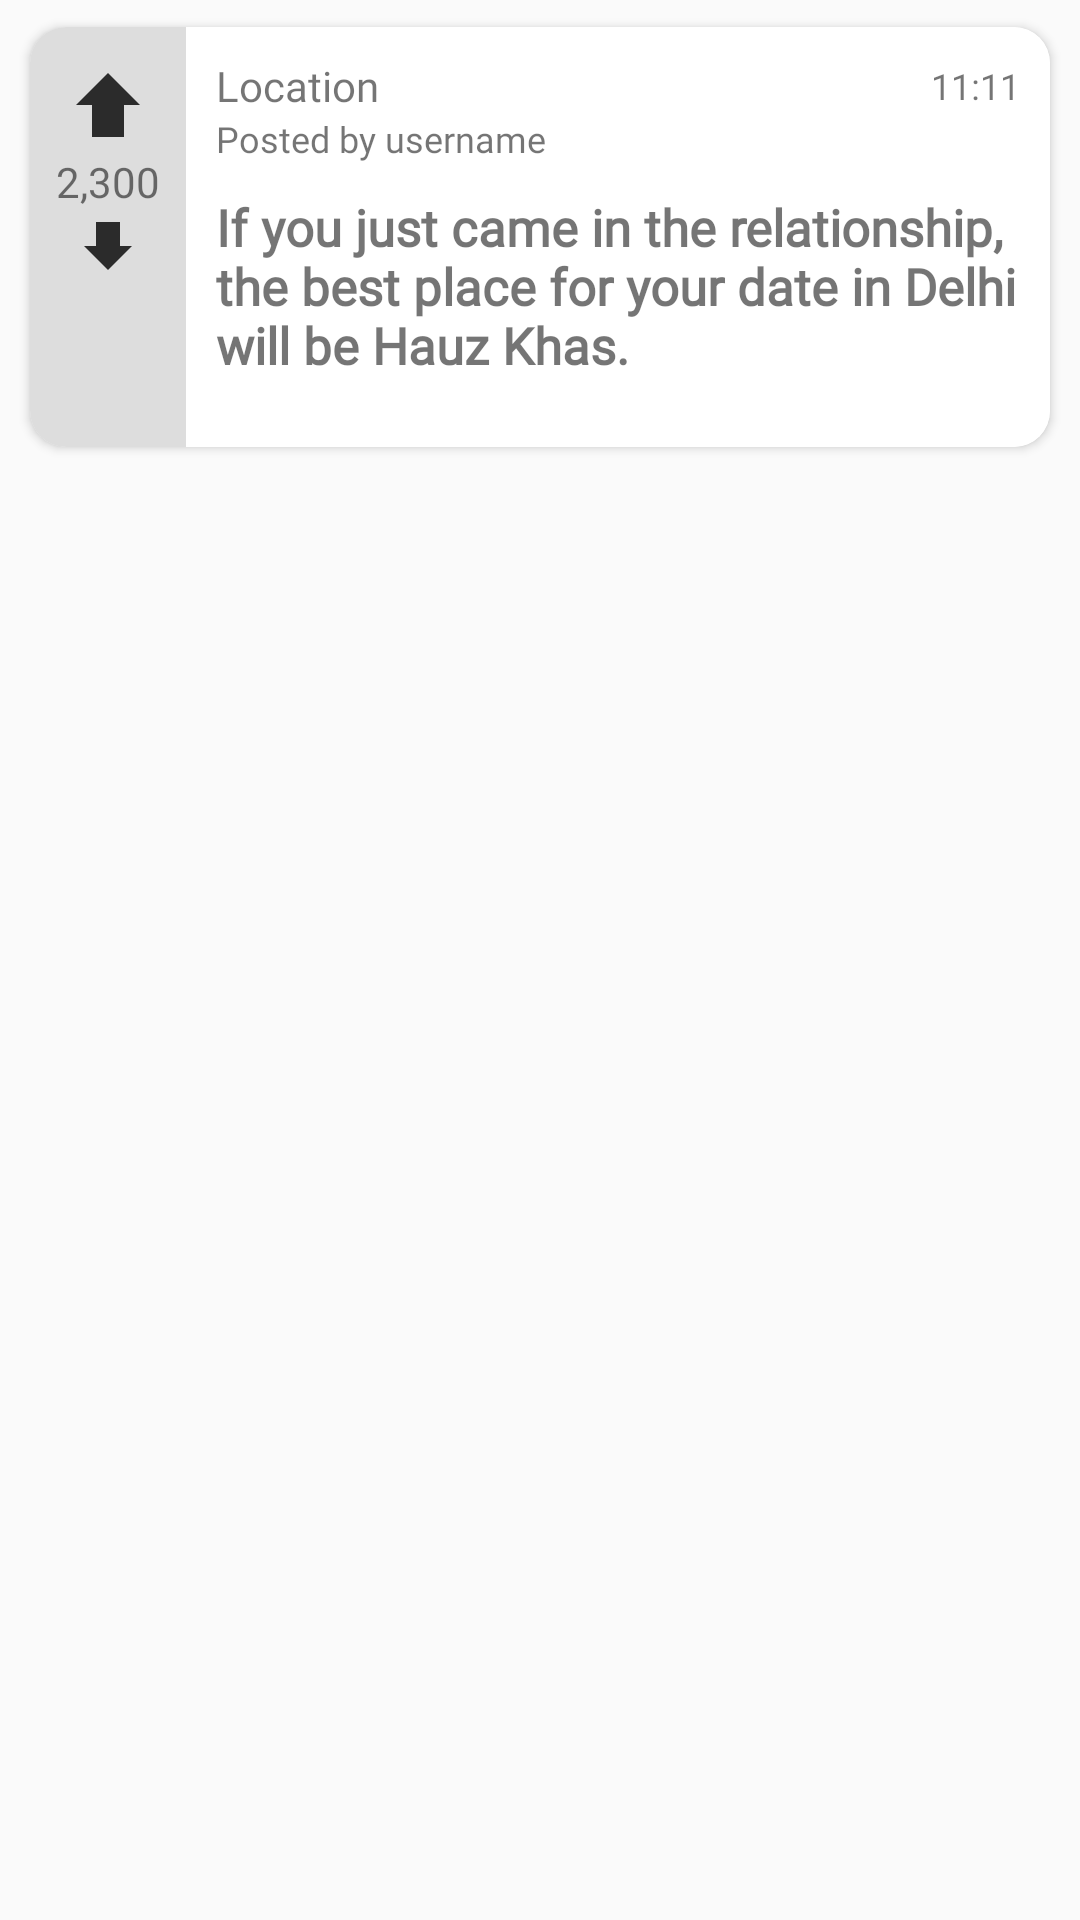

Point at icon controls on the screen. Image size 1080 x 1920, points as point (x, y).
down arrow: point (108, 246)
up arrow: point (108, 105)
